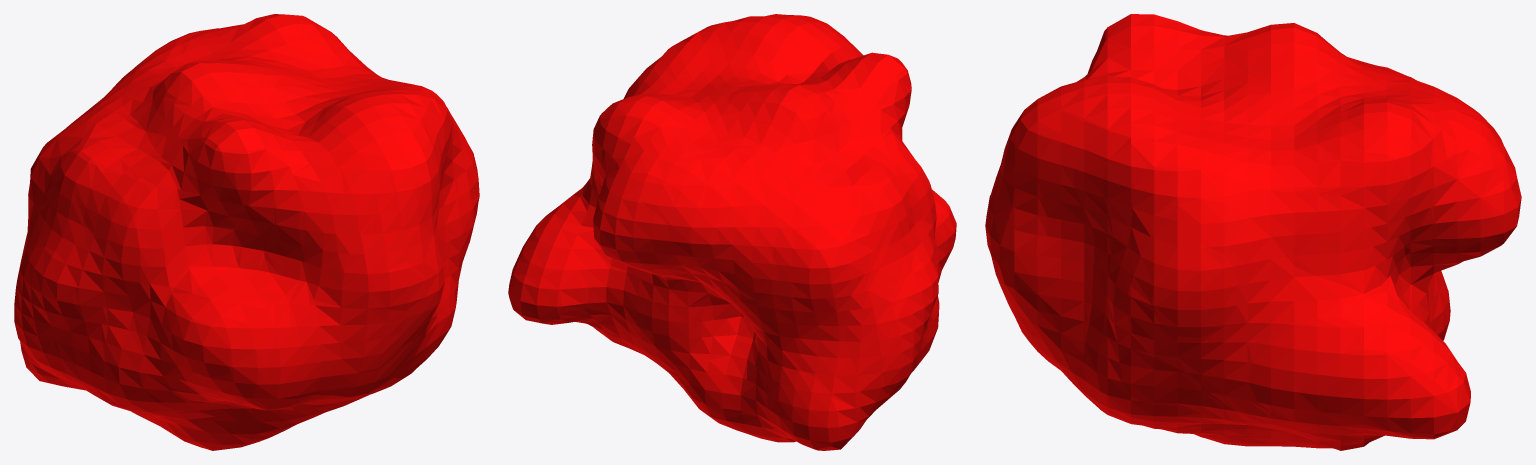
Rendered from ppa_coarse.dae.
3 renders of one model, left to right at view 1: azimuth 30°, elevation 25°; view 2: azimuth 150°, elevation 25°; view 3: azimuth 270°, elevation 25°, orthographic. The views are drawn at different scales.
Visible parts, largest first — view 1: ppa; view 2: ppa; view 3: ppa.
Boxes of the visible parts, x1,y1,x2,y2 form: ppa: (14,14,479,450); ppa: (508,14,956,450); ppa: (985,14,1521,450).
Size of the model in its own units: 45.13 by 38.88 by 45.88.
